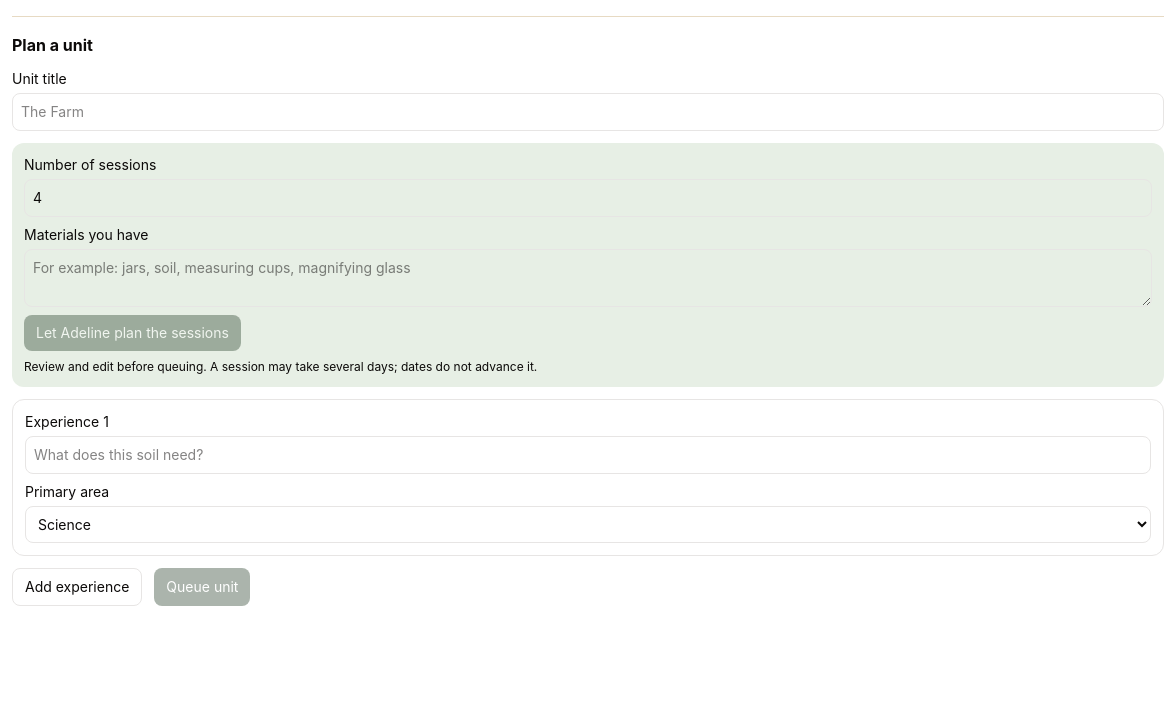
Test: multi-experience family unit › preserves the parent plan when queuing fails
In the field labelled "Unit title": (588, 112) [12, 93, 1164, 131], type "Water"
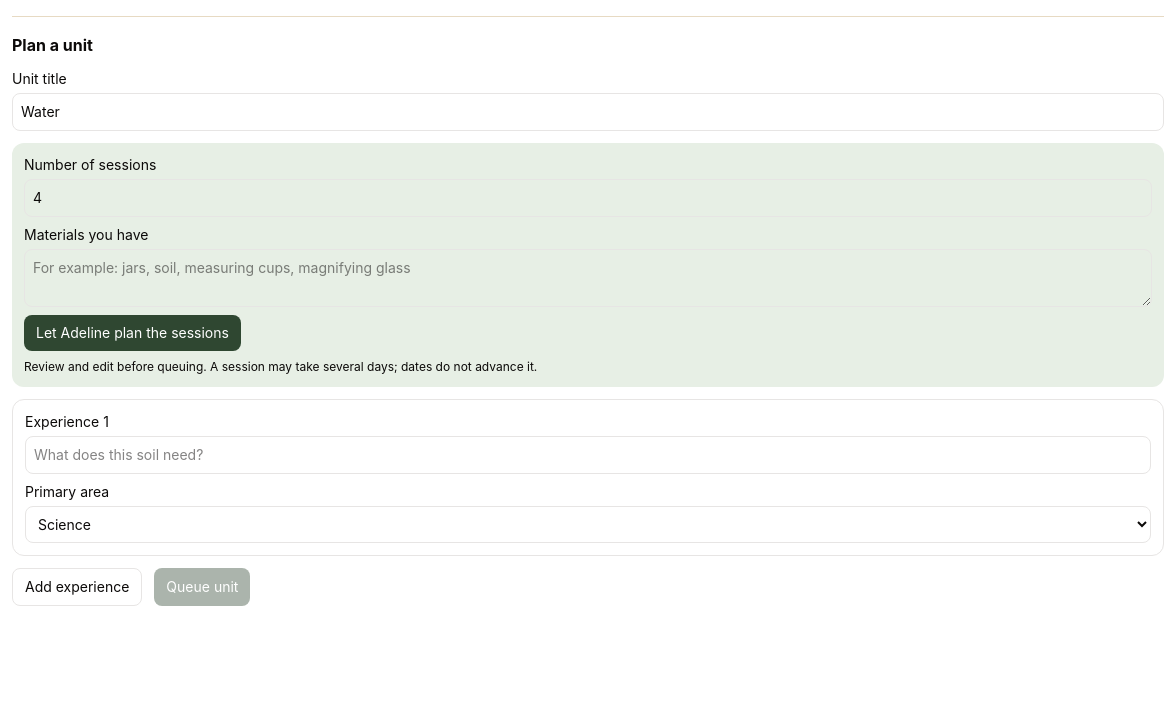
In the field labelled "Experience 1": (588, 455) [25, 436, 1151, 474], type "Measure runoff"
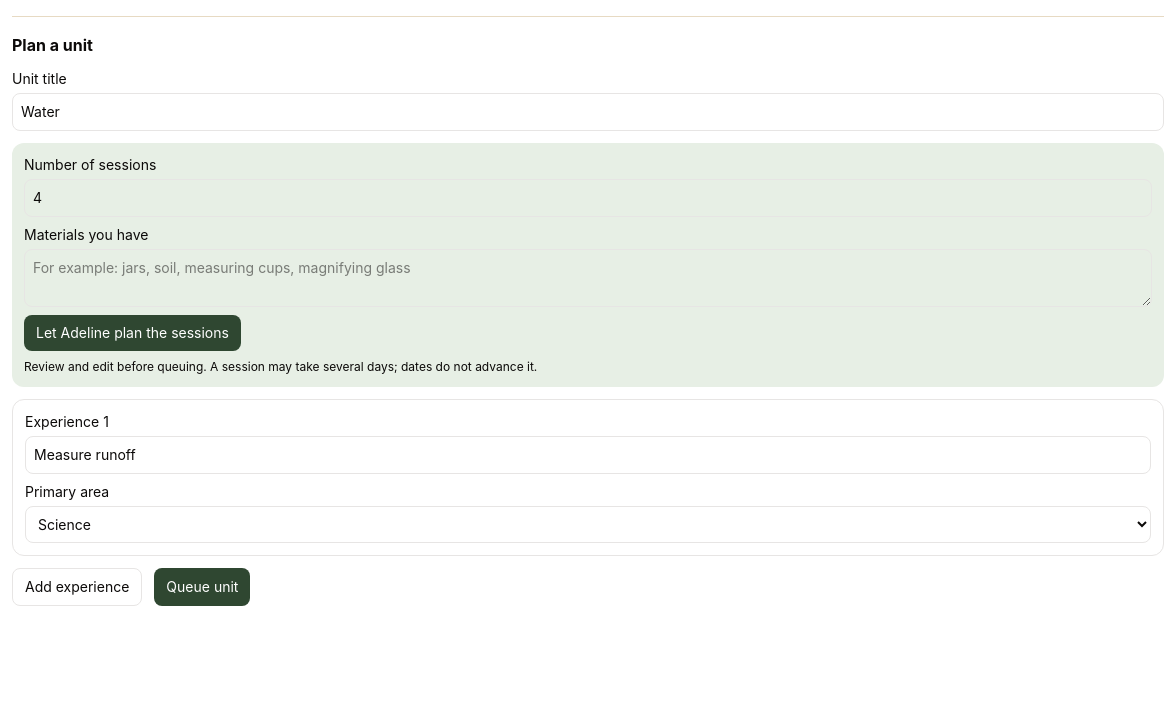
Click the button "Queue unit": (202, 587) [154, 568, 250, 606]
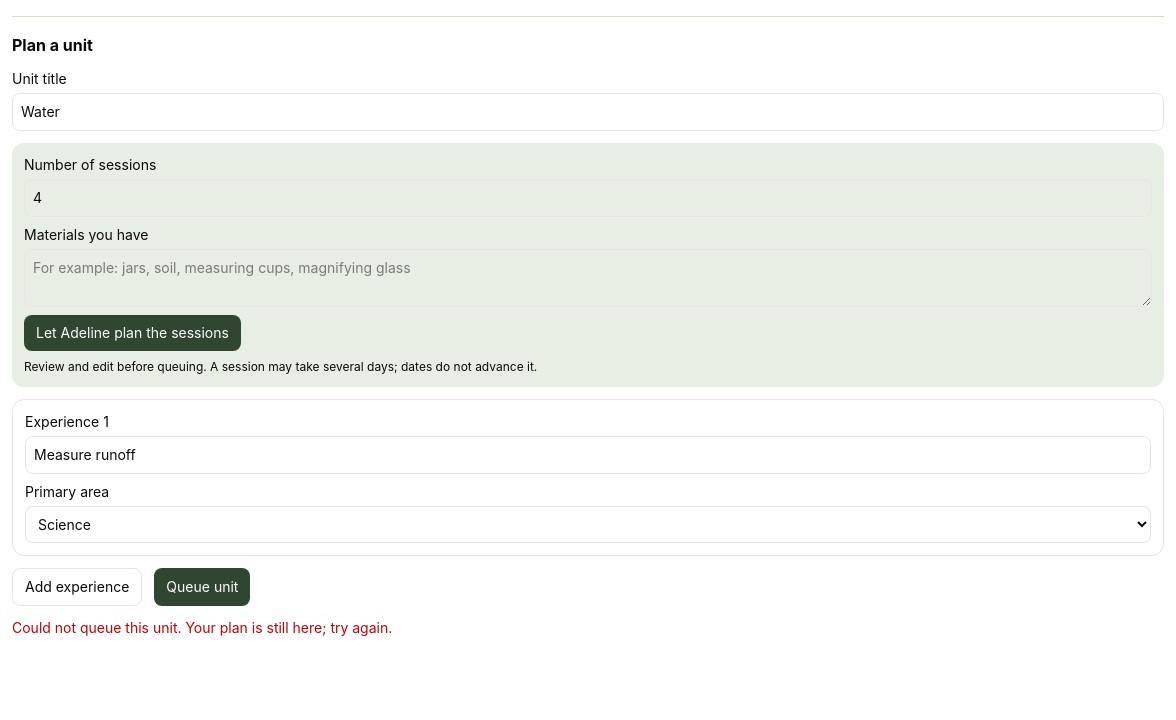
expect the message "Could not queue this unit. Your plan is still here; try again." is shown: met, box [12, 619, 392, 636]
